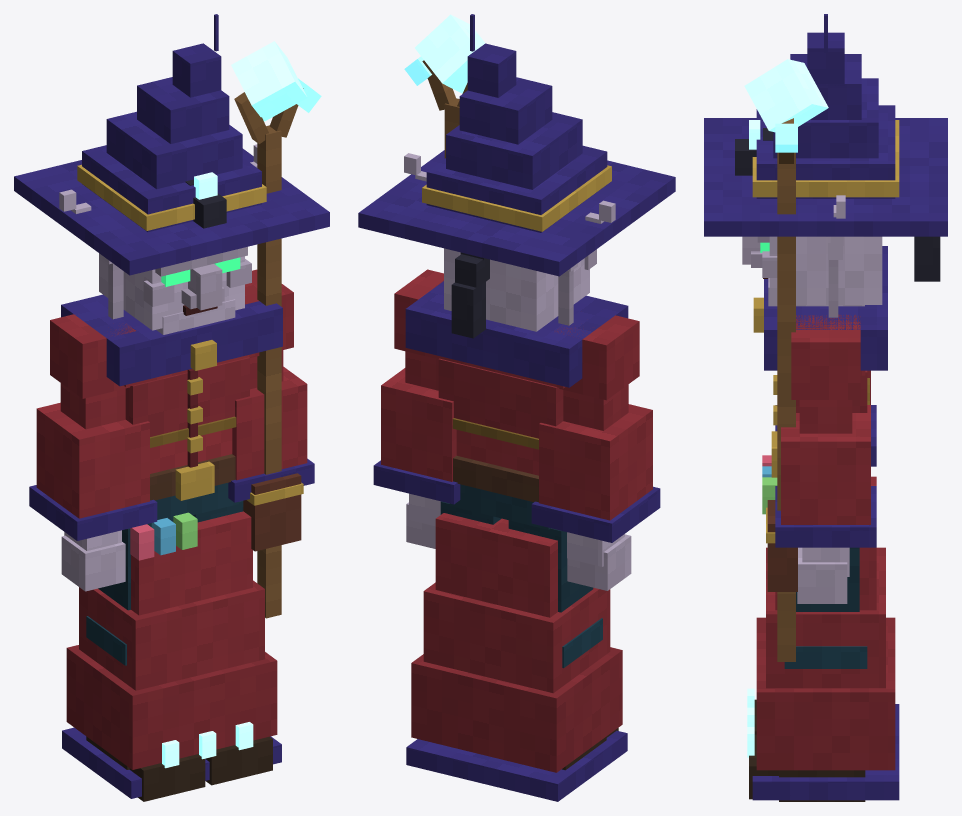
Rendered from elf_mage_v3.glb.
The picture shows the model from 3 angles, left to right: view 1: azimuth 30°, elevation 25°; view 2: azimuth 150°, elevation 25°; view 3: azimuth 270°, elevation 25°; orthographic projection. The views are drawn at different scales.
Parts seen in each view (by area): view 1: Head, Root, Torso, ArmR, HandL, ArmL, LegR, LegL; view 2: Root, Head, Torso, ArmR, ArmL, HandL, LegR; view 3: Head, Root, ArmL, HandL, Torso, LegL, ArmR.
Part boxes in pixels (x1,y1,x2,y2): Head: (14,14,329,334); Root: (62,511,281,798); Torso: (61,294,303,560); ArmR: (29,314,157,591); HandL: (231,41,321,618); ArmL: (228,269,314,550); LegR: (86,520,205,801); LegL: (193,501,272,785); Root: (406,513,627,801); Head: (358,14,675,338); Torso: (405,281,628,529); ArmR: (531,315,660,590); ArmL: (373,269,460,548); HandL: (404,14,485,158); LegR: (508,520,618,770); Head: (704,14,947,317); Root: (747,476,899,800); ArmL: (775,314,876,603); HandL: (744,59,828,661); Torso: (753,246,887,591); LegL: (749,547,867,801); ArmR: (775,370,876,466).
Size of the model in its own units: 0.8093 by 2.33 by 0.663.
Materials: 35 (35 with a texture image).
